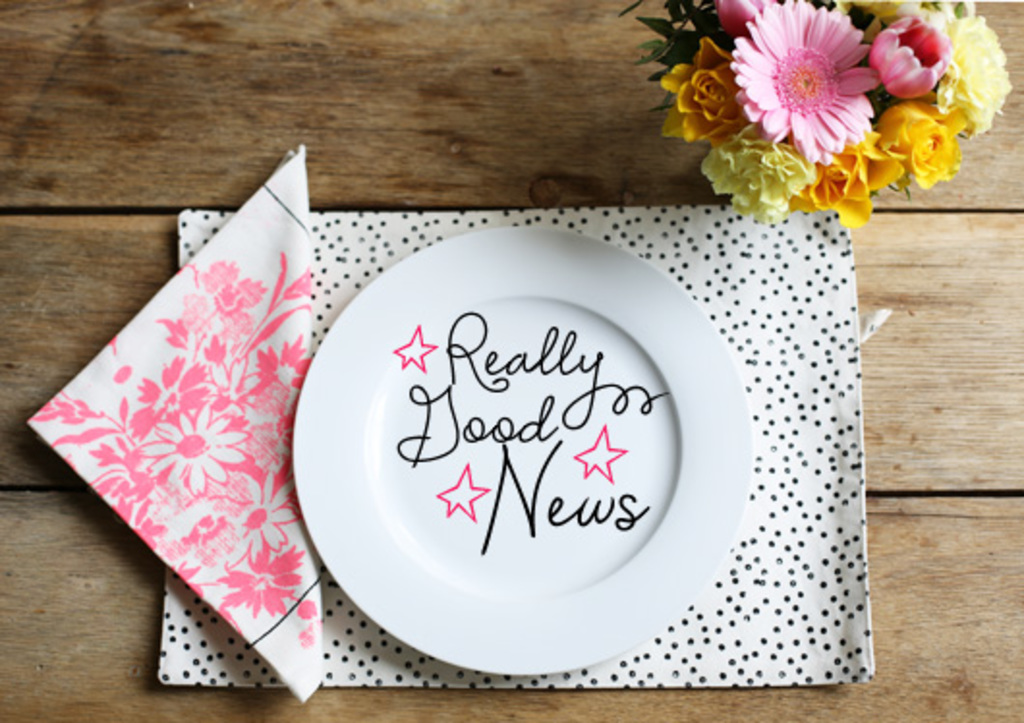plate: (280, 191, 782, 713)
